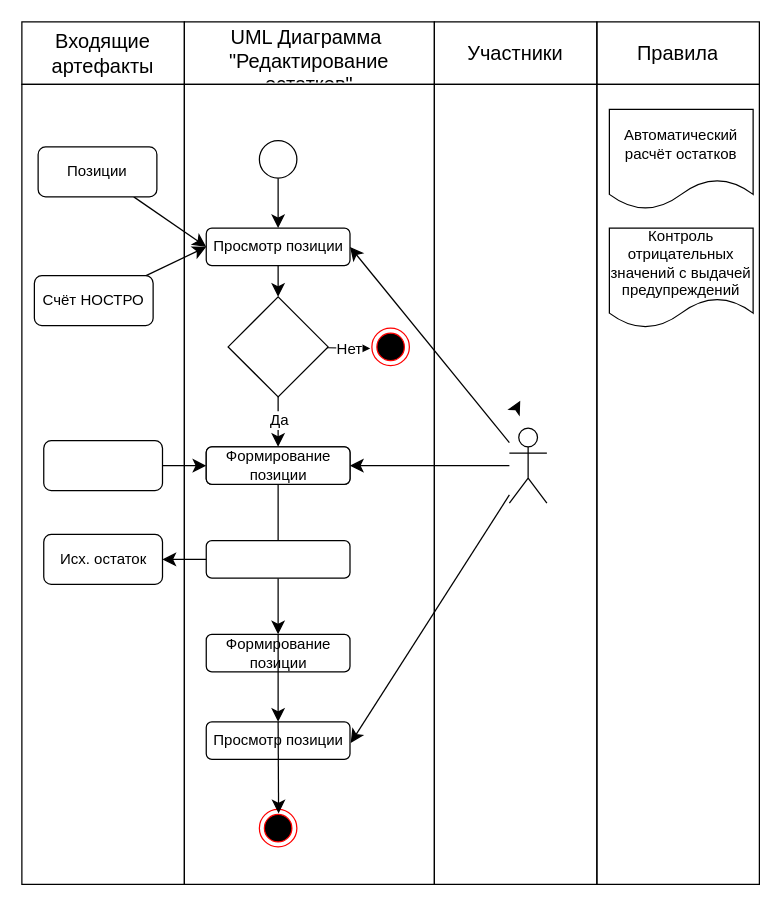
Image size: 781x906. Some labels were removed from this diagram. The shapes that lost their labels are listed below. From the top down, each one's centre as x and y in pixels, then its label:
At (277,158): "Выбран счёт НОСТРО и дата".
At (277,346): "Требуется коррекция".
At (102,465): "Вход. остаток".
At (527,465): "Позиционер".
At (277,558): "Расчёт исх. остатка".
